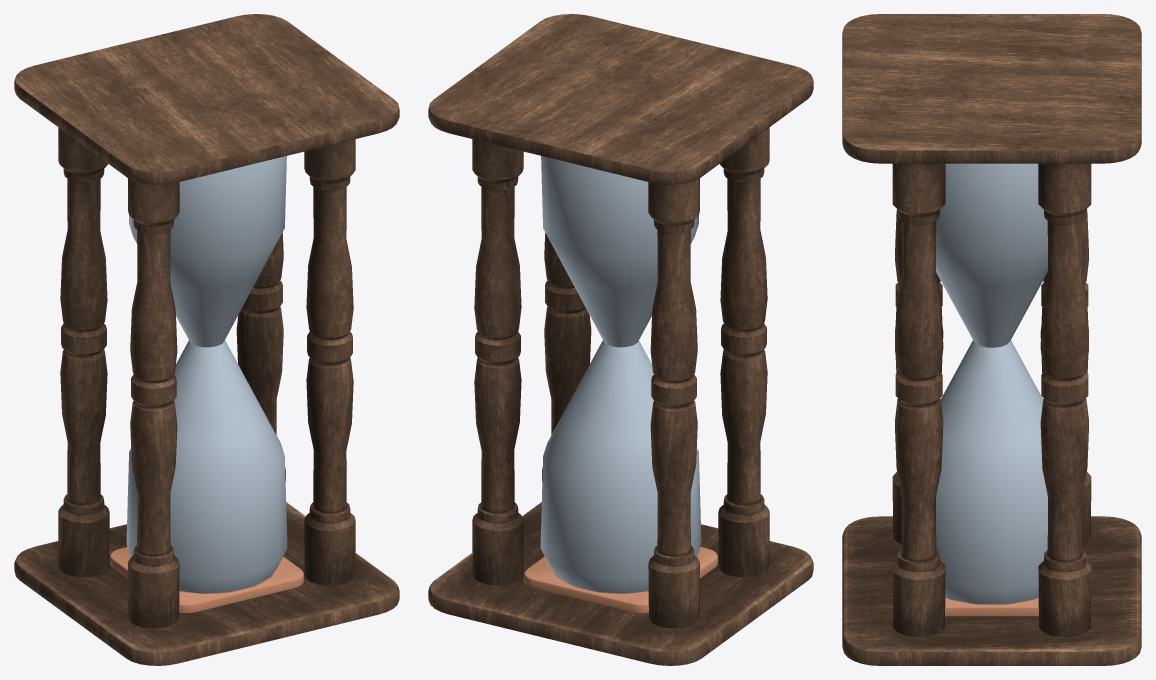
Rendered from hourglass3.fbx.
3 views of the same model, side by side, from view 1: azimuth 30°, elevation 25°; view 2: azimuth 150°, elevation 25°; view 3: azimuth 270°, elevation 25° (orthographic). The views are drawn at different scales.
Parts seen in each view (by area): view 1: HourglassMain, HourglassGlass; view 2: HourglassMain, HourglassGlass; view 3: HourglassMain, HourglassGlass.
Boxes of the visible parts, x1=… form: HourglassMain: x1=14, y1=14, x2=399, y2=665; HourglassGlass: x1=126, y1=156, x2=287, y2=593; HourglassMain: x1=428, y1=14, x2=813, y2=665; HourglassGlass: x1=540, y1=156, x2=701, y2=593; HourglassMain: x1=842, y1=14, x2=1141, y2=665; HourglassGlass: x1=936, y1=163, x2=1047, y2=604.
Bounding box in the file's own units: 17.01 × 29.83 × 15.7.
